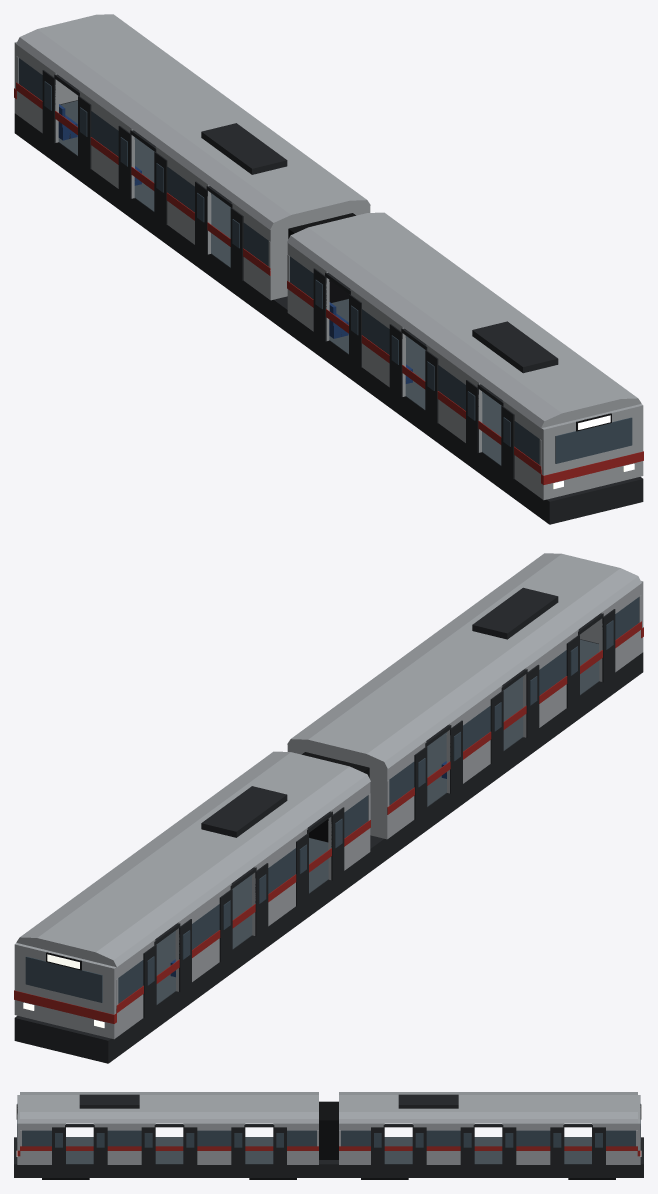
Rendered from ug-train.glb.
The picture shows the model from 3 angles, top to bottom: view 1: azimuth 30°, elevation 25°; view 2: azimuth 150°, elevation 25°; view 3: azimuth 270°, elevation 25°; orthographic projection. The views are drawn at different scales.
Parts seen in each view (by area): view 1: ug-train; view 2: ug-train; view 3: ug-train.
Boxes of the visible parts, x1=… form: ug-train: x1=14, y1=14, x2=643, y2=524; ug-train: x1=14, y1=553, x2=643, y2=1063; ug-train: x1=14, y1=1092, x2=643, y2=1179.
Bounding box in the file's own units: 3.53 × 3.91 × 31.6.
